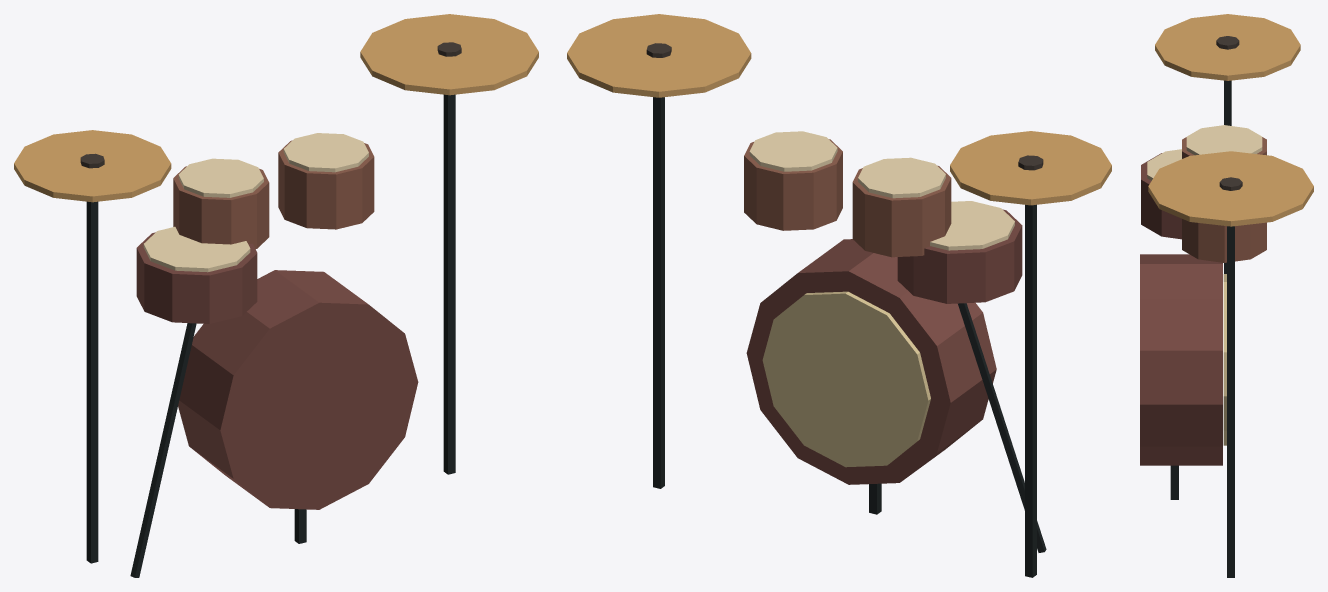
The model's file is lwf_drum_hardware_only_v2.glb.
The picture shows the model from 3 angles, left to right: view 1: azimuth 30°, elevation 25°; view 2: azimuth 150°, elevation 25°; view 3: azimuth 270°, elevation 25°; orthographic projection. The views are drawn at different scales.
Parts seen in each view (by area): view 1: LWF_Drummer_DrumShells, LWF_Drummer_CymbalsHardware; view 2: LWF_Drummer_DrumShells, LWF_Drummer_CymbalsHardware; view 3: LWF_Drummer_DrumShells, LWF_Drummer_CymbalsHardware.
Part boxes in pixels (x1,y1,x2,y2): LWF_Drummer_DrumShells: [136, 133, 418, 543]; LWF_Drummer_CymbalsHardware: [14, 14, 538, 577]; LWF_Drummer_DrumShells: [744, 131, 1022, 514]; LWF_Drummer_CymbalsHardware: [567, 14, 1111, 577]; LWF_Drummer_DrumShells: [1140, 125, 1266, 499]; LWF_Drummer_CymbalsHardware: [1148, 14, 1313, 577].
Size of the model in its own units: 1.63 by 1.32 by 0.525.
Materials: 1 (1 with a texture image).
